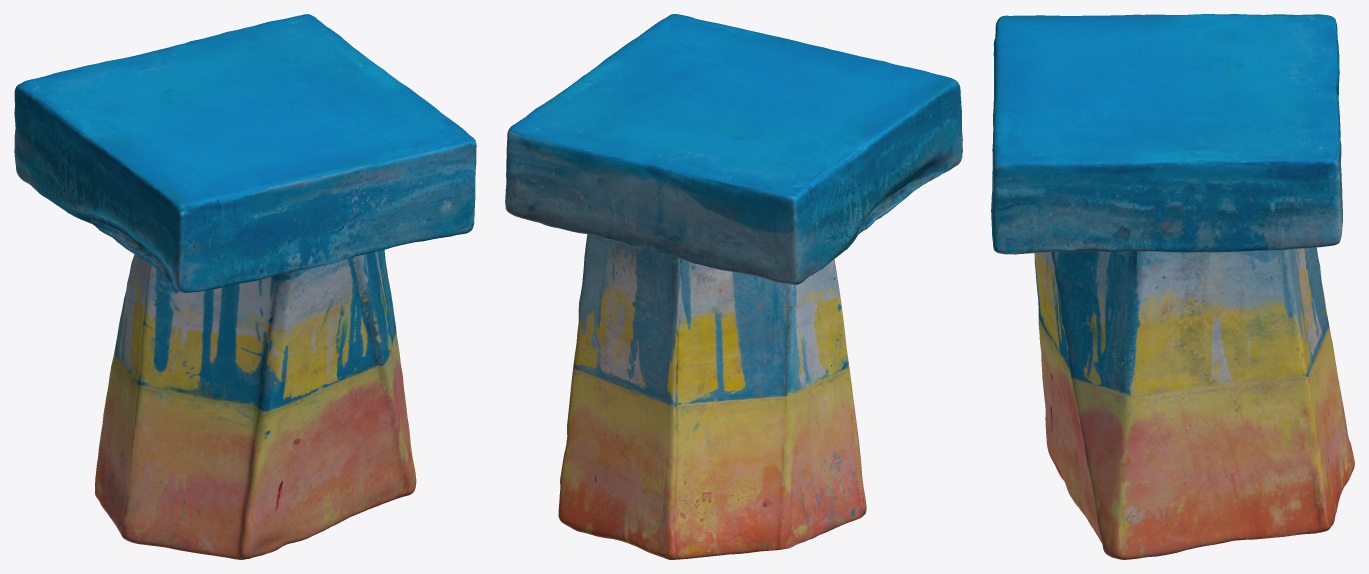
Rendered from KuengCaputo_SandChair_2012.glb.
The picture shows the model from 3 angles, left to right: view 1: azimuth 30°, elevation 25°; view 2: azimuth 150°, elevation 25°; view 3: azimuth 270°, elevation 25°; orthographic projection. The views are drawn at different scales.
Visible parts, largest first — view 1: Retopo_sandhocker1.002; view 2: Retopo_sandhocker1.002; view 3: Retopo_sandhocker1.002.
Part boxes in pixels (x1,y1,x2,y2): Retopo_sandhocker1.002: (14,14,476,559); Retopo_sandhocker1.002: (505,14,962,559); Retopo_sandhocker1.002: (991,14,1354,559).
Bounding box in the file's own units: 0.3608 × 0.4641 × 0.3749.
Materials: 1 (1 with a texture image).
